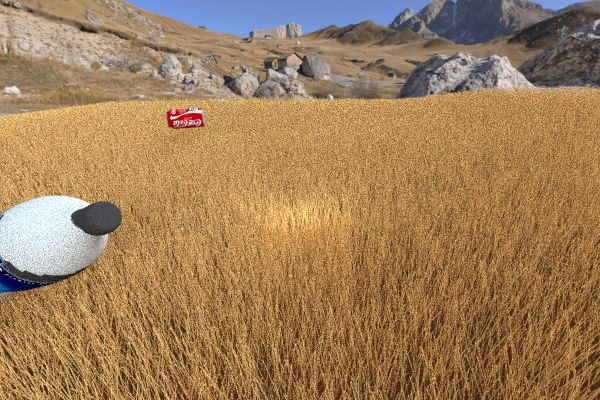bottle: (0, 194, 119, 298)
can: (324, 130, 394, 173), (197, 102, 233, 123)
